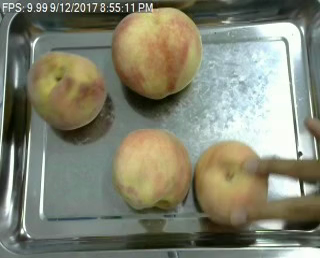Peach: (111, 6, 203, 99), (25, 50, 107, 131), (111, 128, 191, 210), (193, 139, 264, 229)
